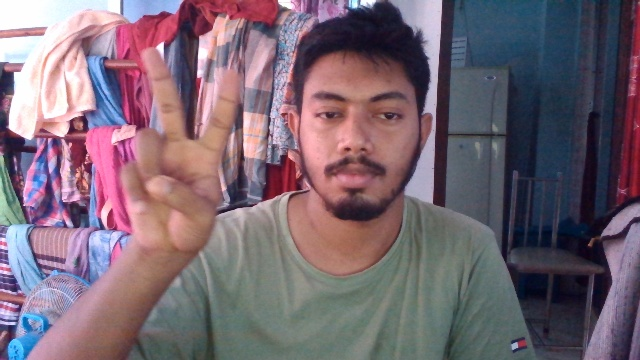thanks: (115, 28, 251, 269)
